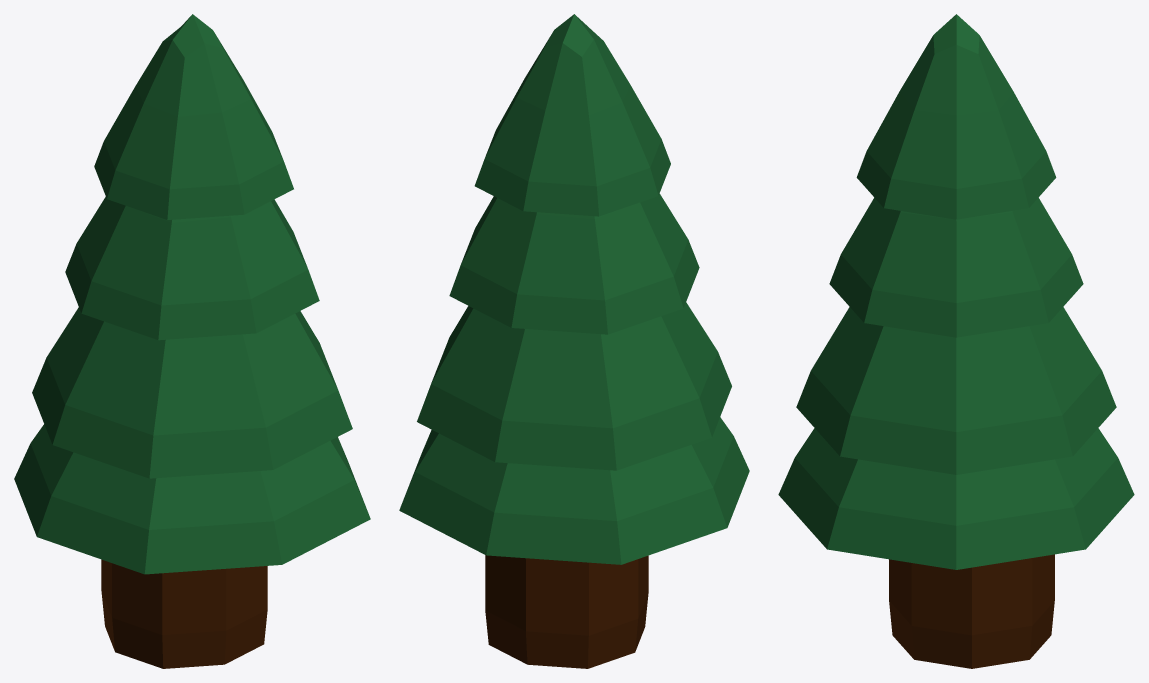
Rendered from Tree.fbx.
The picture shows the model from 3 angles, left to right: view 1: azimuth 30°, elevation 25°; view 2: azimuth 150°, elevation 25°; view 3: azimuth 270°, elevation 25°; orthographic projection.
Parts seen in each view (by area): view 1: Cube.024; view 2: Cube.024; view 3: Cube.024.
Part boxes in pixels (x1,y1,x2,y2): Cube.024: (14, 14, 370, 668); Cube.024: (399, 14, 749, 668); Cube.024: (778, 14, 1134, 668).
Size of the model in its own units: 217 by 421 by 217.
